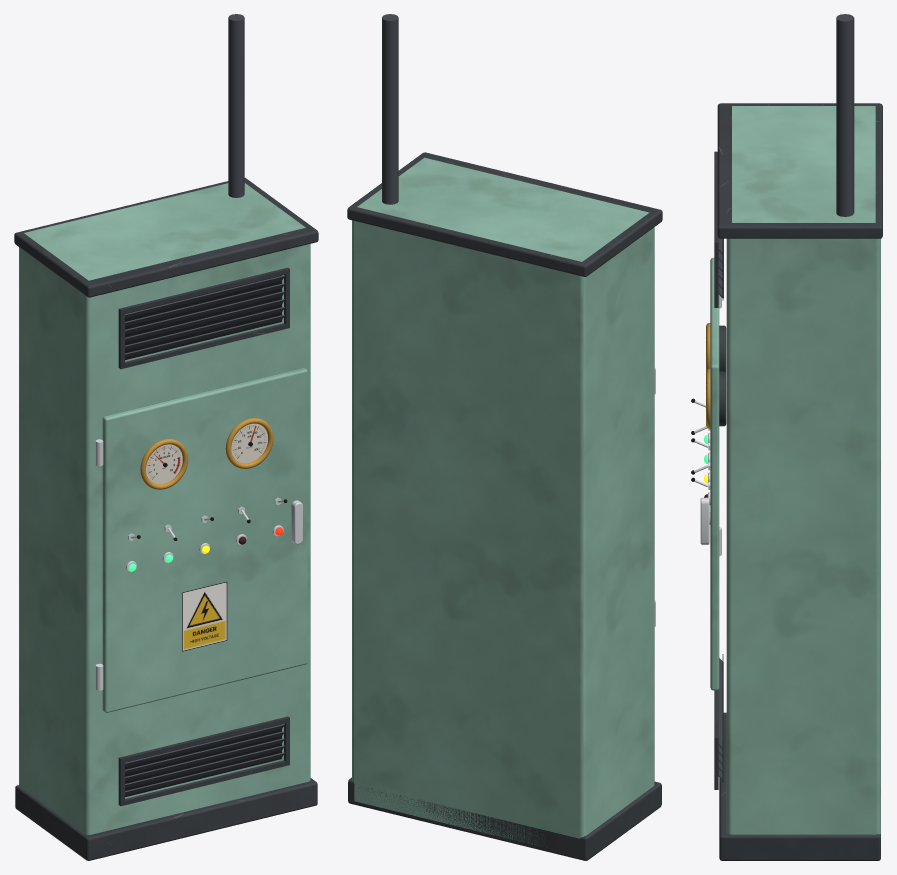
File: ElectricalCabinet.glb
The picture shows the model from 3 angles, left to right: view 1: azimuth 30°, elevation 25°; view 2: azimuth 150°, elevation 25°; view 3: azimuth 270°, elevation 25°; orthographic projection. The views are drawn at different scales.
Visible parts, largest first — view 1: ElectricalCabinet_Body, ElectricalCabinet_Door; view 2: ElectricalCabinet_Body; view 3: ElectricalCabinet_Body, ElectricalCabinet_Door.
Part boxes in pixels (<box>): ElectricalCabinet_Body: <box>14,14,318,860</box>; ElectricalCabinet_Door: <box>95,368,307,712</box>; ElectricalCabinet_Body: <box>347,14,662,860</box>; ElectricalCabinet_Body: <box>714,14,882,860</box>; ElectricalCabinet_Door: <box>700,257,726,690</box>.
Size of the model in its own units: 0.82 by 2.55 by 0.5338.
Materials: 14 (6 with a texture image).
